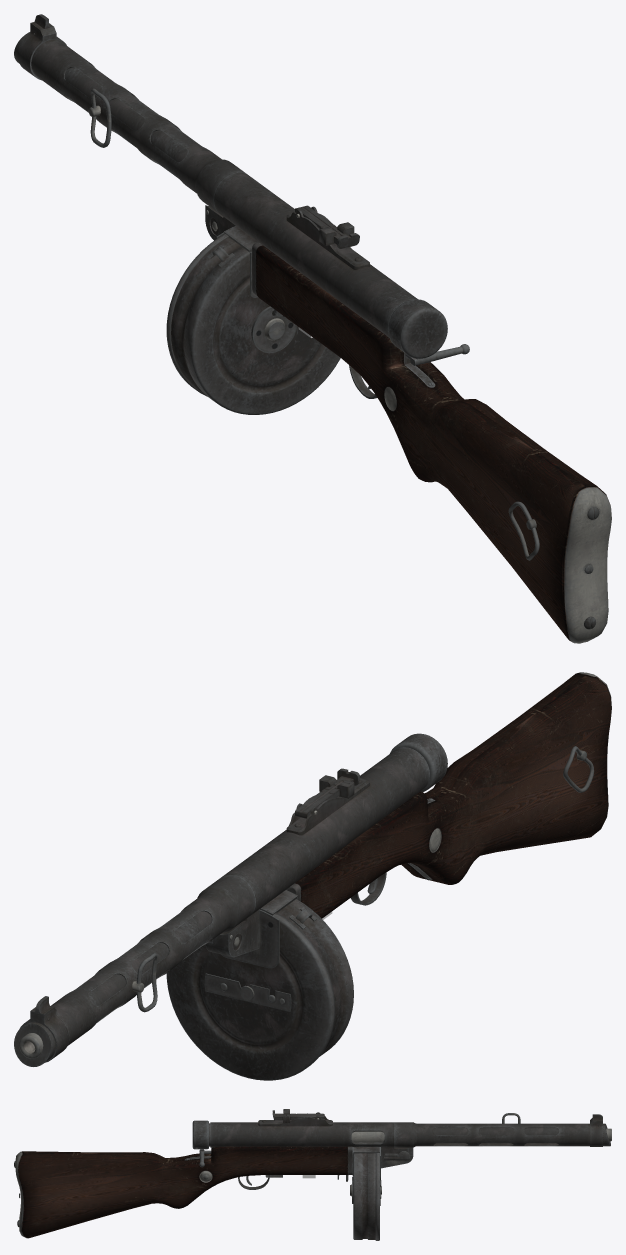
The model's file is suomi_kp-31-ville.glb.
3 views of the same model, one above another, from view 1: azimuth 30°, elevation 25°; view 2: azimuth 150°, elevation 25°; view 3: azimuth 270°, elevation 25° (orthographic). The views are drawn at different scales.
Parts seen in each view (by area): view 1: SuomiKP31_Body, SuomiKP31_Drum, SuomiKP31_Cover, SuomiKP31_Cap, SuomiKP31_Barrel; view 2: SuomiKP31_Body, SuomiKP31_Drum, SuomiKP31_Cover, SuomiKP31_Barrel, SuomiKP31_Cap, SuomiKP31_Sight; view 3: SuomiKP31_Body, SuomiKP31_Cover, SuomiKP31_Drum, SuomiKP31_Barrel, SuomiKP31_Cap, SuomiKP31_Bolt, SuomiKP31_Sight, SuomiKP31_Lock.
Part boxes in pixels (x1,y1,x2,y2): SuomiKP31_Body: (205,172,611,643); SuomiKP31_Drum: (166,226,340,414); SuomiKP31_Cover: (14,14,247,212); SuomiKP31_Cap: (388,299,447,358); SuomiKP31_Barrel: (64,67,187,162); SuomiKP31_Body: (205,672,611,957); SuomiKP31_Drum: (166,890,353,1080); SuomiKP31_Cover: (14,875,255,1066); SuomiKP31_Barrel: (19,911,211,1058); SuomiKP31_Cap: (390,733,447,791); SuomiKP31_Sight: (295,768,359,818); SuomiKP31_Body: (14,1112,413,1238); SuomiKP31_Cover: (394,1113,610,1155); SuomiKP31_Drum: (350,1147,381,1240); SuomiKP31_Barrel: (433,1127,611,1141); SuomiKP31_Cap: (192,1120,208,1149); SuomiKP31_Bolt: (351,1131,384,1142); SuomiKP31_Sight: (272,1110,324,1120); SuomiKP31_Lock: (384,1151,410,1160).
Size of the model in its own units: 15.6 by 21.19 by 92.33.
2 materials, 1 textured.
